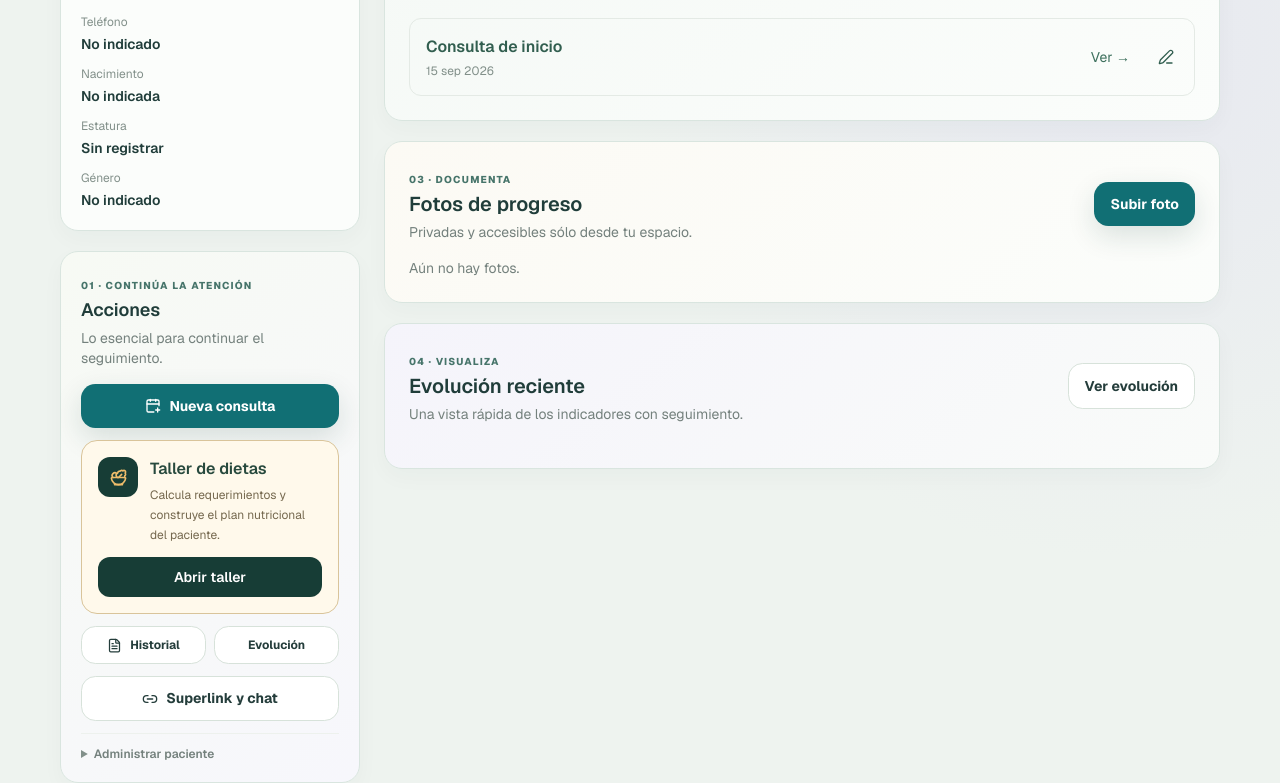
Test: consultation removal feedback › removes the consultation from both history and recent list after success
(page scrolled)
Click the button "Historial": click(144, 645) [81,626,206,664]
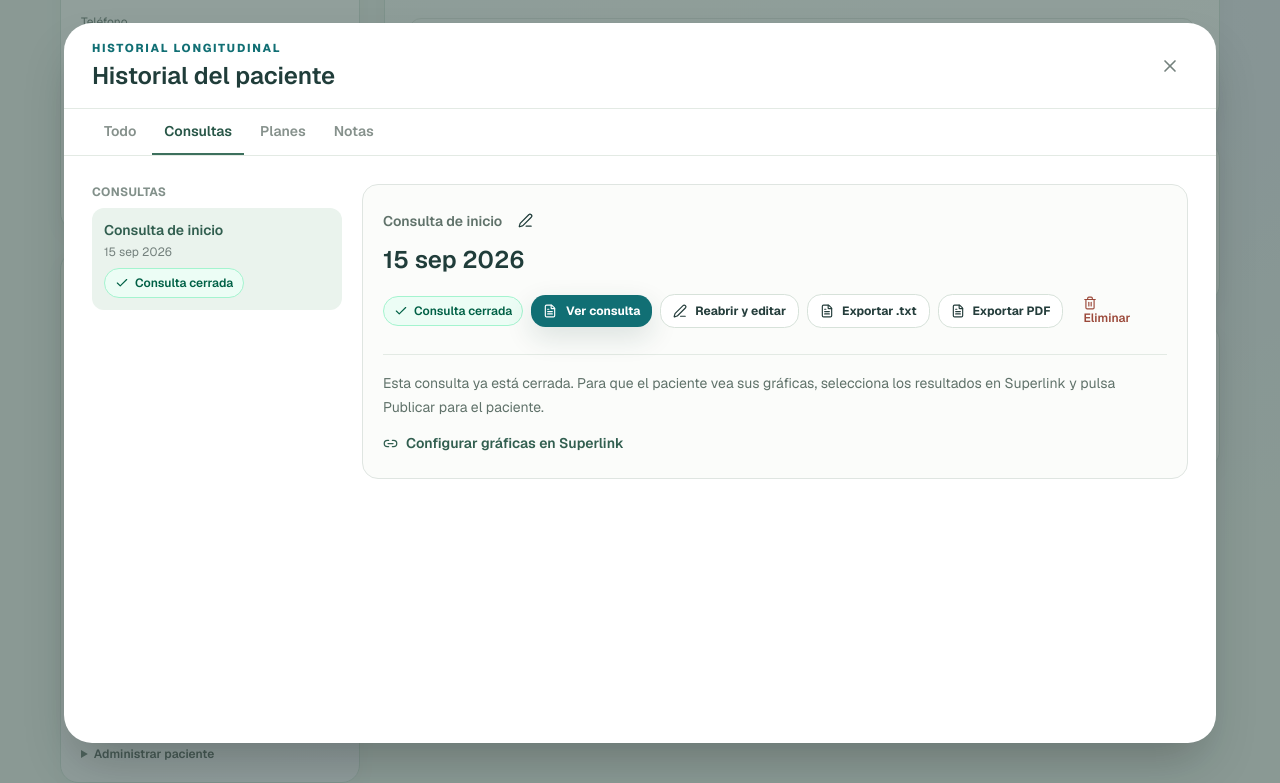
Click the button "Eliminar": click(1107, 311) [1071,288,1142,334]
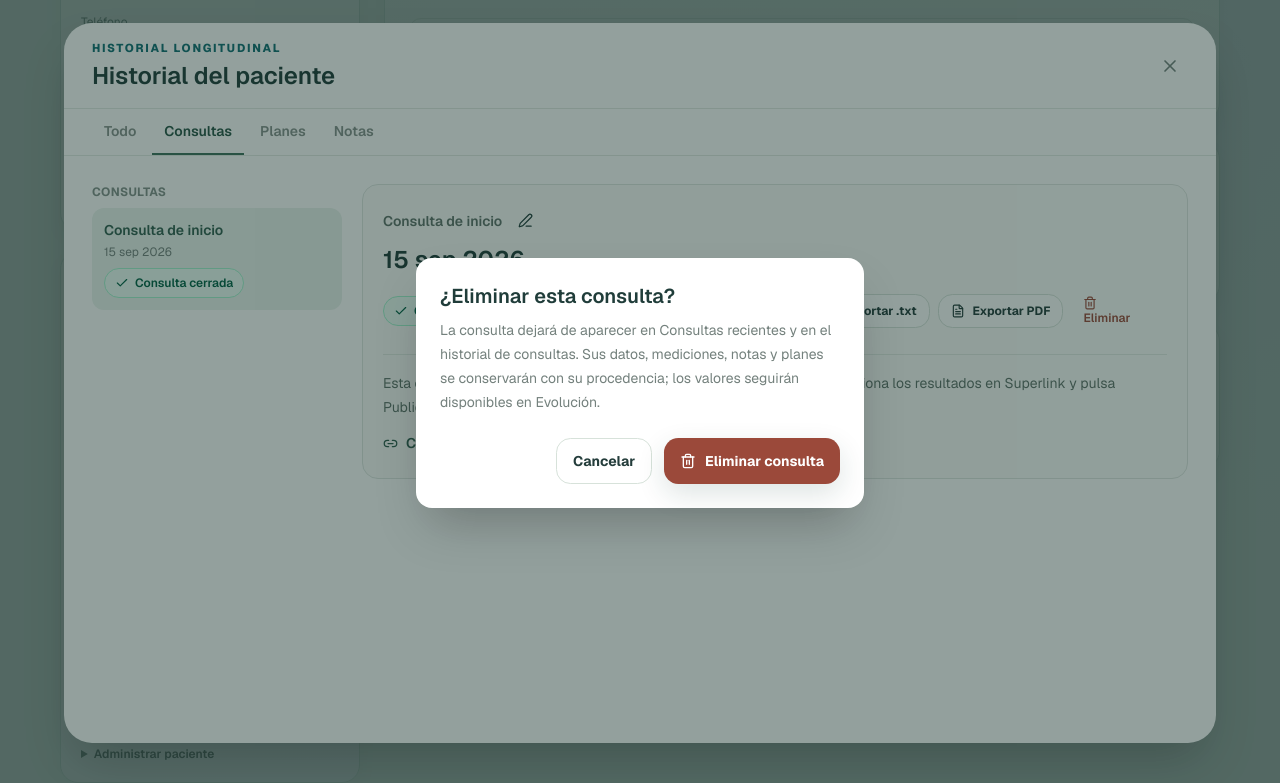
Click the button "Eliminar consulta": click(752, 461) [664,438,840,484]
(page scrolled)
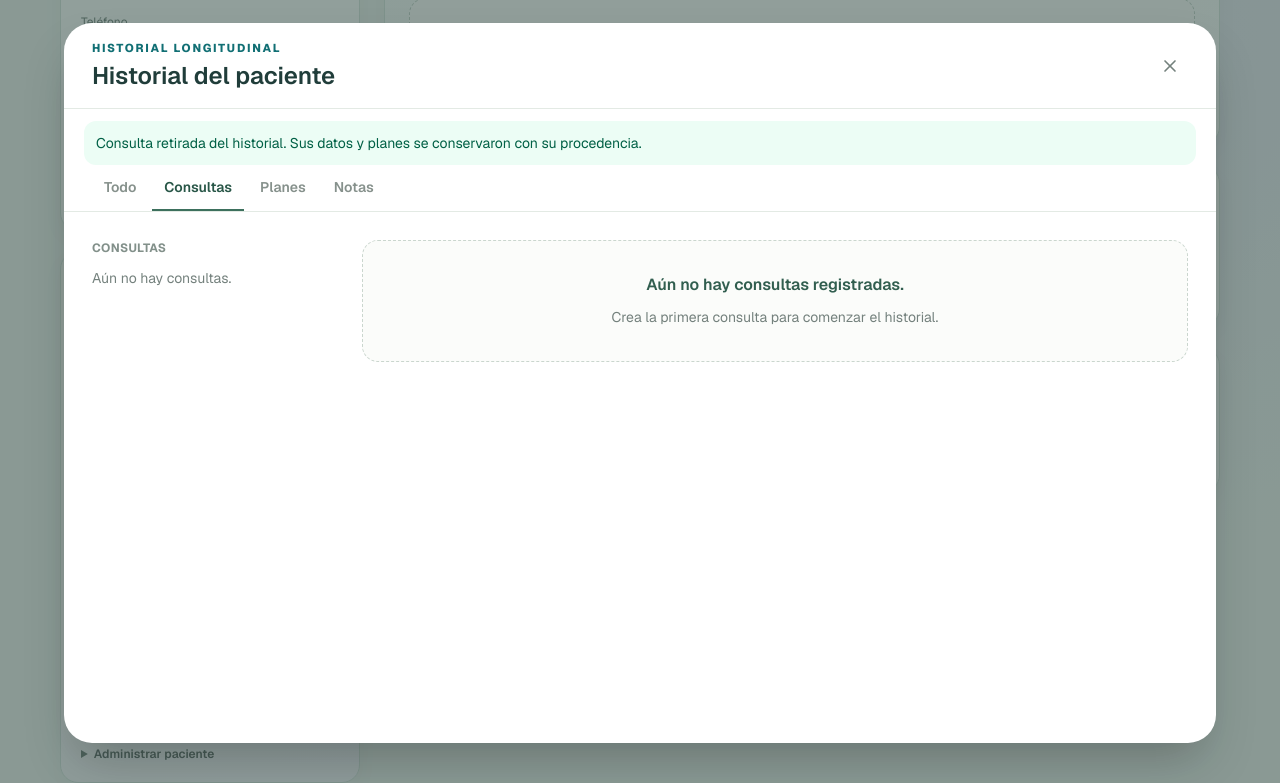
Expected: no buttons "Consulta de inicio" are shown
Expected: the message shows "Consulta retirada", [96,134,642,152]
